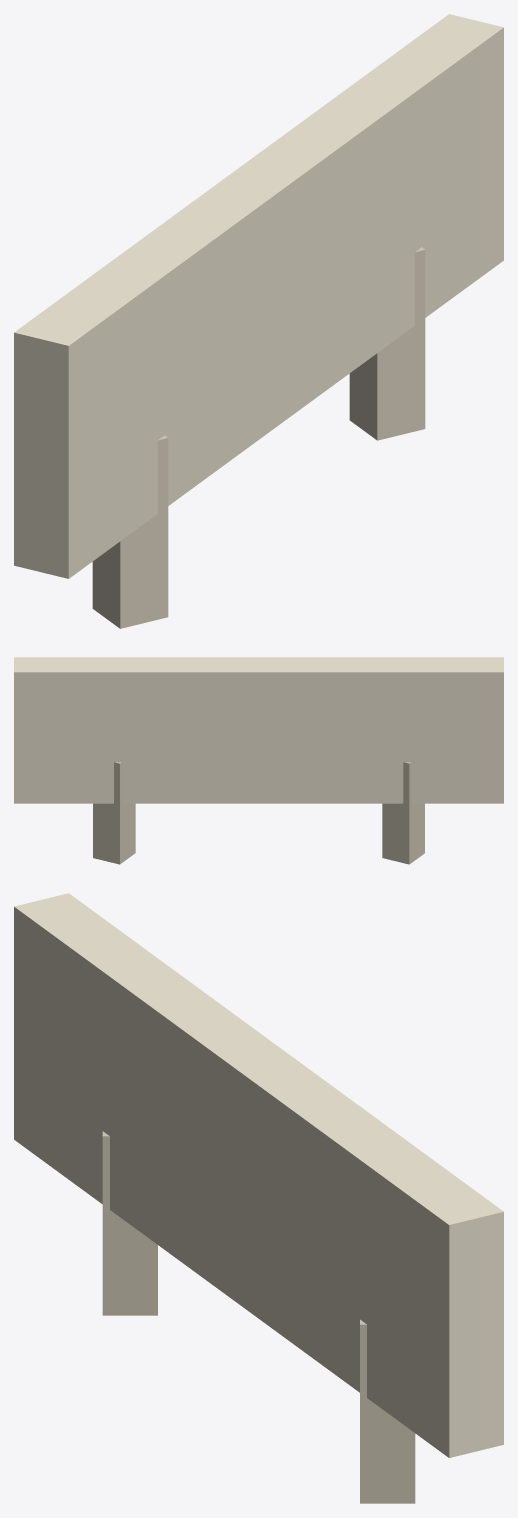
The model's file is rail-30.glb.
The picture shows the model from 3 angles, top to bottom: view 1: azimuth 30°, elevation 25°; view 2: azimuth 150°, elevation 25°; view 3: azimuth 270°, elevation 25°; orthographic projection. The views are drawn at different scales.
Bounding box in the file's own units: 1.99 × 0.945 × 1.24.
